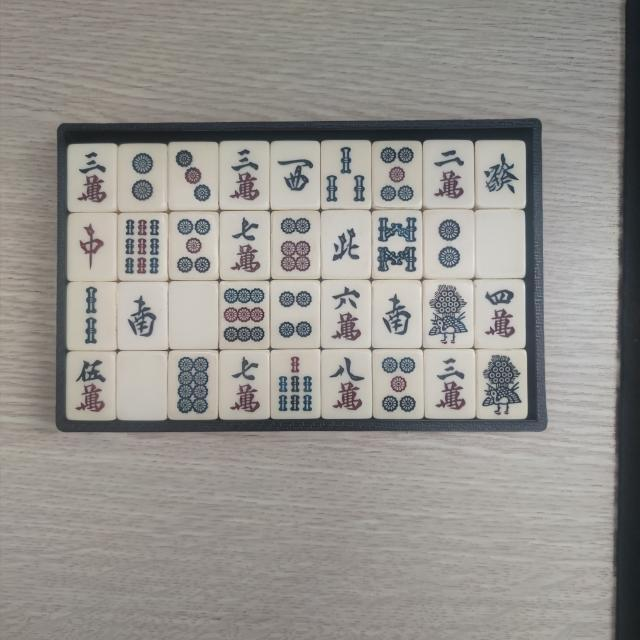hdg: (482, 144, 524, 204)
hdr: (72, 218, 110, 276)
hdw: (172, 286, 215, 346), (480, 216, 521, 274), (122, 358, 162, 417)
hwn: (327, 214, 368, 276)
hws: (122, 287, 164, 347), (377, 286, 417, 346)
hww: (274, 144, 316, 204)
sb1: (479, 352, 524, 416), (428, 284, 472, 347)
sb2: (72, 284, 114, 348)
sb3: (324, 143, 371, 205)
sb7: (276, 354, 317, 416)
sb8: (376, 214, 418, 277)
sb9: (122, 217, 163, 277)
sc2: (428, 144, 471, 204)
sc3: (429, 354, 472, 416), (224, 144, 265, 206), (73, 149, 114, 208)
sc4: (479, 283, 522, 343)
sc5: (72, 354, 113, 416)
sc6: (327, 284, 367, 346)
sc7: (224, 216, 266, 276), (225, 353, 264, 415)
sc8: (328, 354, 368, 415)
sd2: (122, 146, 162, 208), (430, 215, 470, 276)
sd3: (172, 146, 214, 206)
sd4: (274, 285, 316, 346)
sd5: (377, 355, 419, 416), (376, 146, 418, 206), (174, 216, 214, 277)
sd6: (276, 216, 316, 276)
sd8: (172, 354, 213, 416)
sd9: (221, 285, 267, 346)
